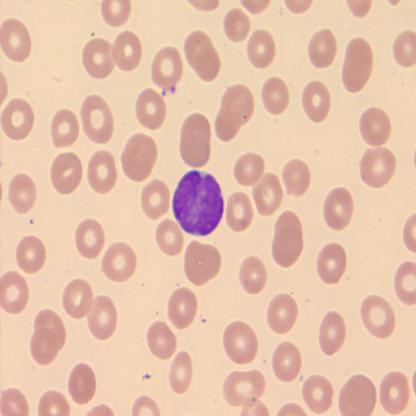Blast: (170, 167, 226, 239)
